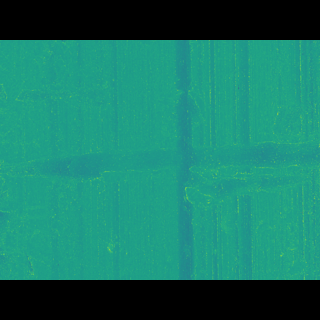Loch: (0, 143, 320, 193), (0, 91, 129, 123), (151, 98, 217, 137)
